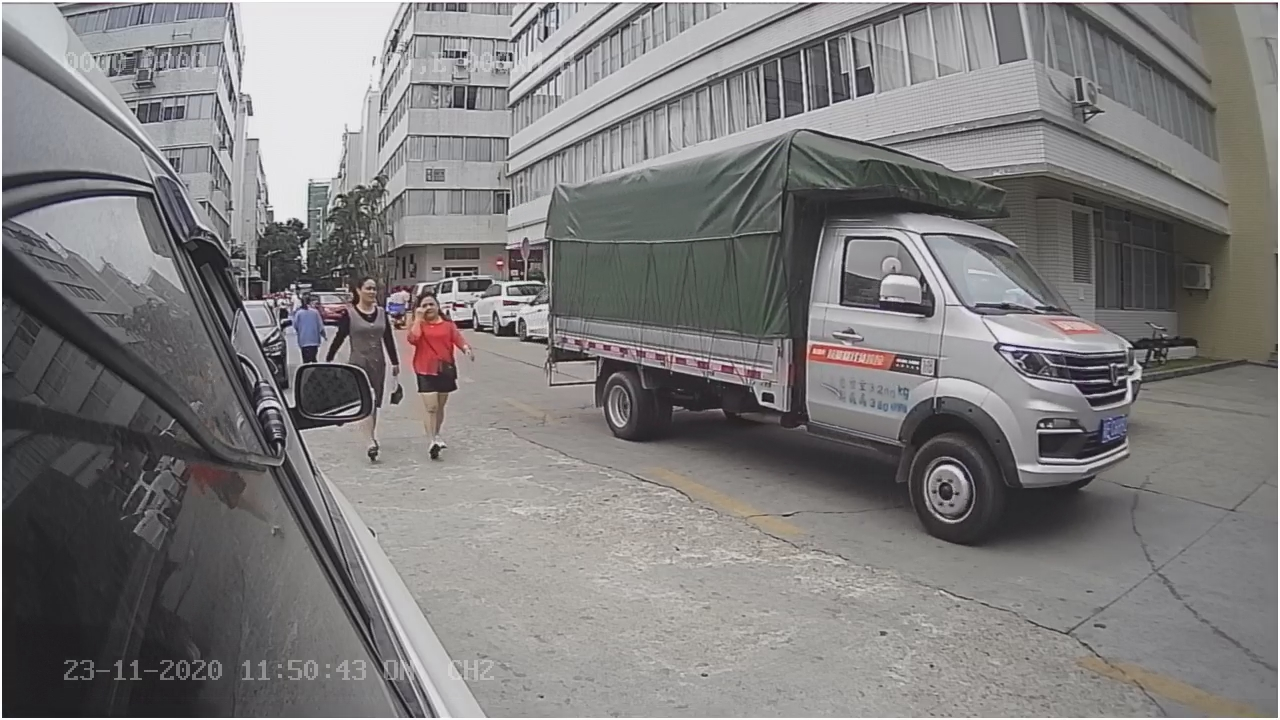person: (407, 292, 476, 462)
